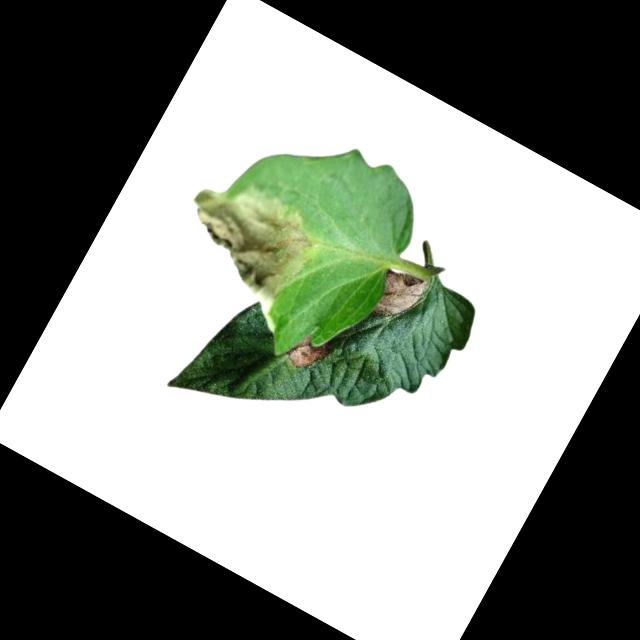Late_blight: (165, 160, 329, 312), (367, 262, 433, 329), (282, 328, 333, 379)
